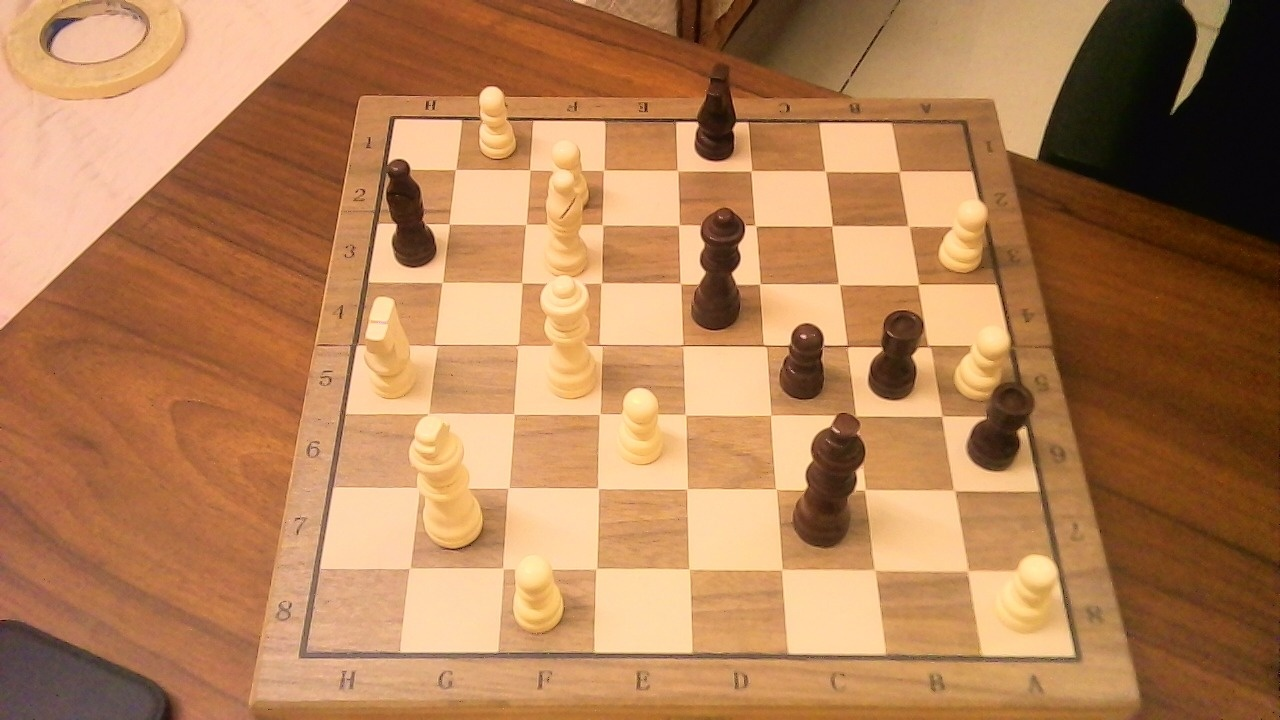B: (532, 160, 597, 277)
K: (405, 403, 493, 552)
N: (353, 323, 423, 404)
P: (989, 544, 1068, 637), (505, 544, 572, 638), (949, 316, 1019, 404), (606, 378, 671, 471), (932, 190, 996, 275), (539, 132, 594, 215), (468, 78, 522, 162)
Q: (528, 263, 602, 404)
b: (378, 147, 443, 272)
k: (788, 397, 879, 552)
n: (685, 50, 747, 166)
p: (774, 314, 837, 402)
q: (687, 196, 760, 334)
r: (961, 370, 1044, 476), (862, 298, 935, 405)
